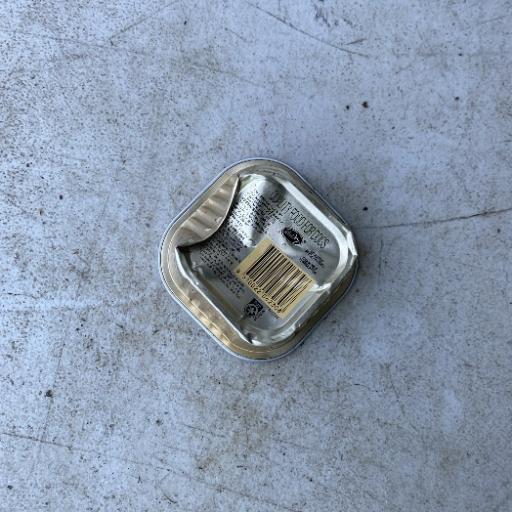Metal: (156, 156, 360, 364)
